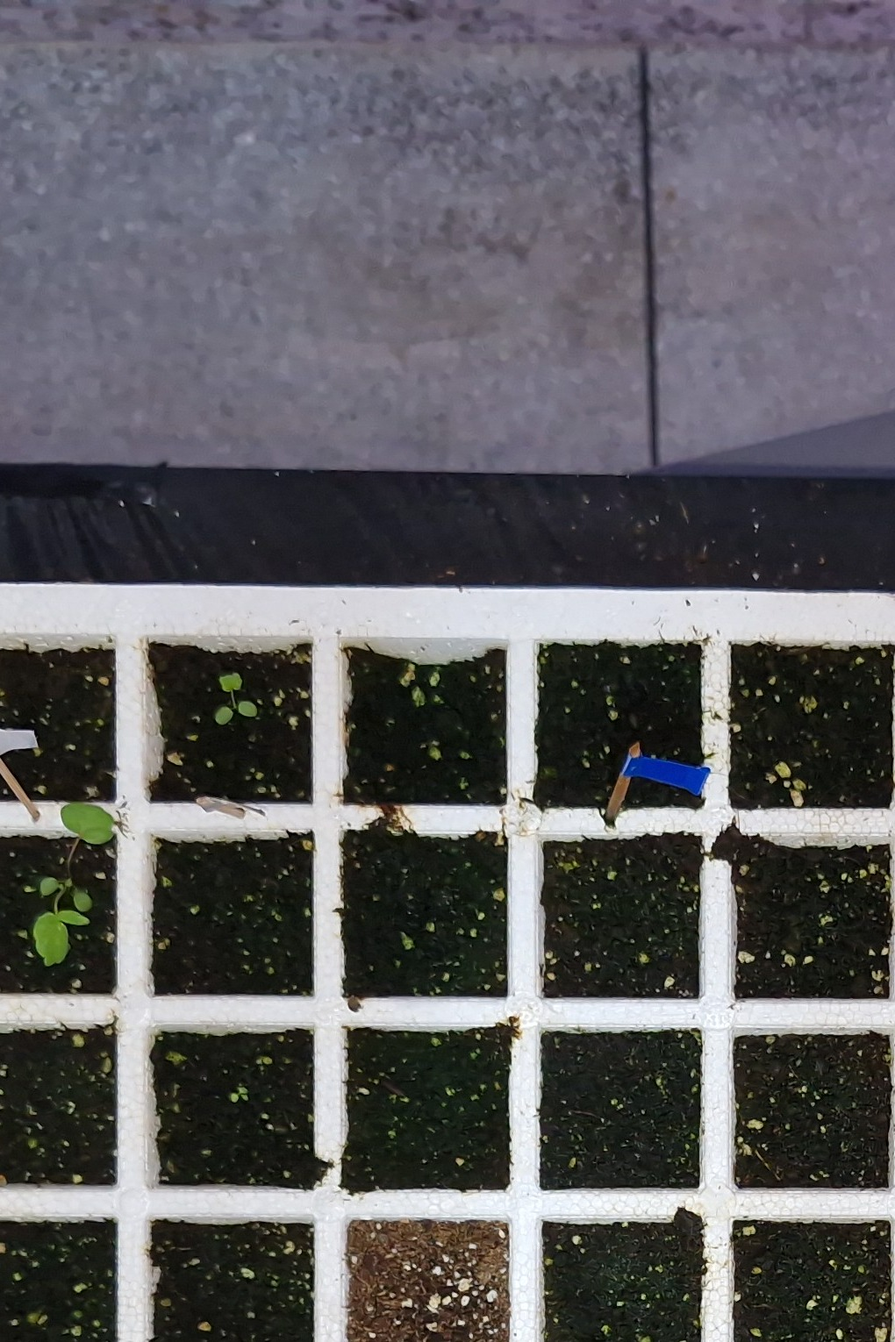Folha: (61, 804, 116, 843), (33, 912, 68, 966), (58, 911, 89, 925), (219, 674, 242, 691), (40, 877, 58, 896), (74, 893, 92, 911), (216, 707, 233, 725), (238, 702, 257, 716)
Germinacao: (33, 802, 113, 966), (215, 674, 257, 725), (231, 1087, 249, 1103)
